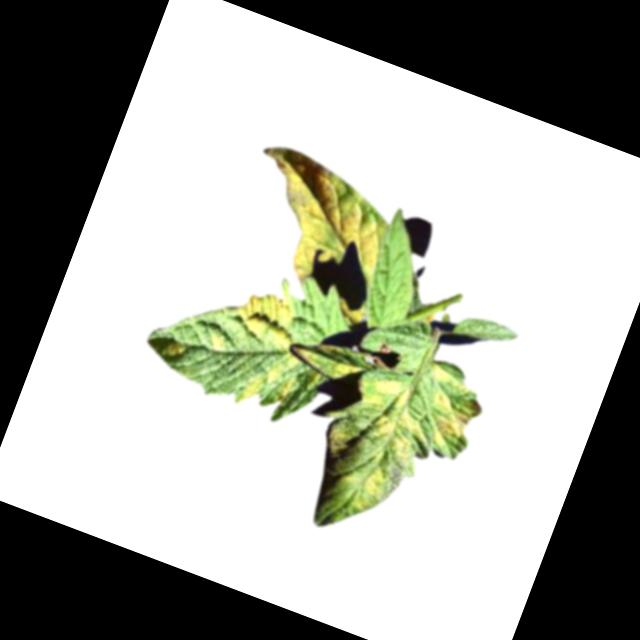Leaf_Mold: (223, 137, 402, 303), (335, 365, 438, 467), (408, 362, 491, 455), (232, 280, 309, 354), (332, 454, 390, 516), (235, 359, 281, 412), (166, 336, 189, 359)
